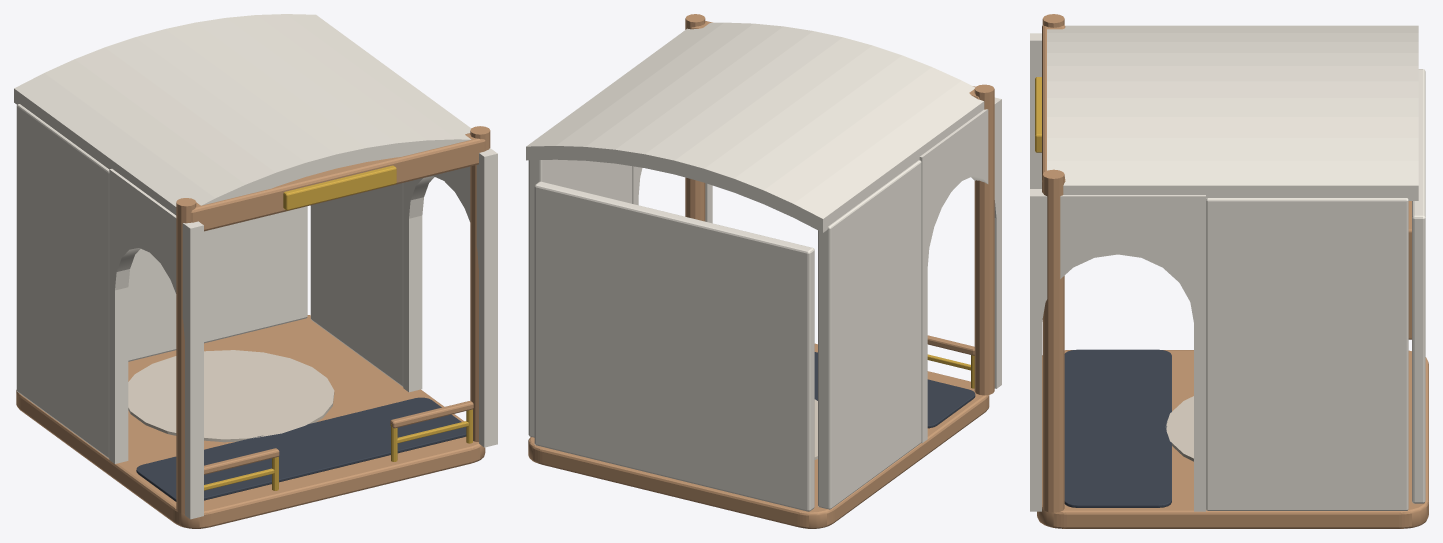
The model's file is WallHabitat_CubicleBay.fbx.
3 views of the same model, side by side, from view 1: azimuth 30°, elevation 25°; view 2: azimuth 150°, elevation 25°; view 3: azimuth 270°, elevation 25° (orthographic). The views are drawn at different scales.
Visible parts, largest first — view 1: WallHabitat_CubicleBay_Structure, WallHabitat_CubicleBay_Accents; view 2: WallHabitat_CubicleBay_Structure; view 3: WallHabitat_CubicleBay_Structure, WallHabitat_CubicleBay_Accents.
Part boxes in pixels (x1,y1,x2,y2): WallHabitat_CubicleBay_Structure: (14, 14, 497, 528); WallHabitat_CubicleBay_Accents: (283, 165, 396, 210); WallHabitat_CubicleBay_Structure: (526, 14, 1001, 528); WallHabitat_CubicleBay_Structure: (1030, 14, 1428, 528); WallHabitat_CubicleBay_Accents: (1035, 77, 1041, 152).
Size of the model in its own units: 23.1 by 24 by 23.6.
